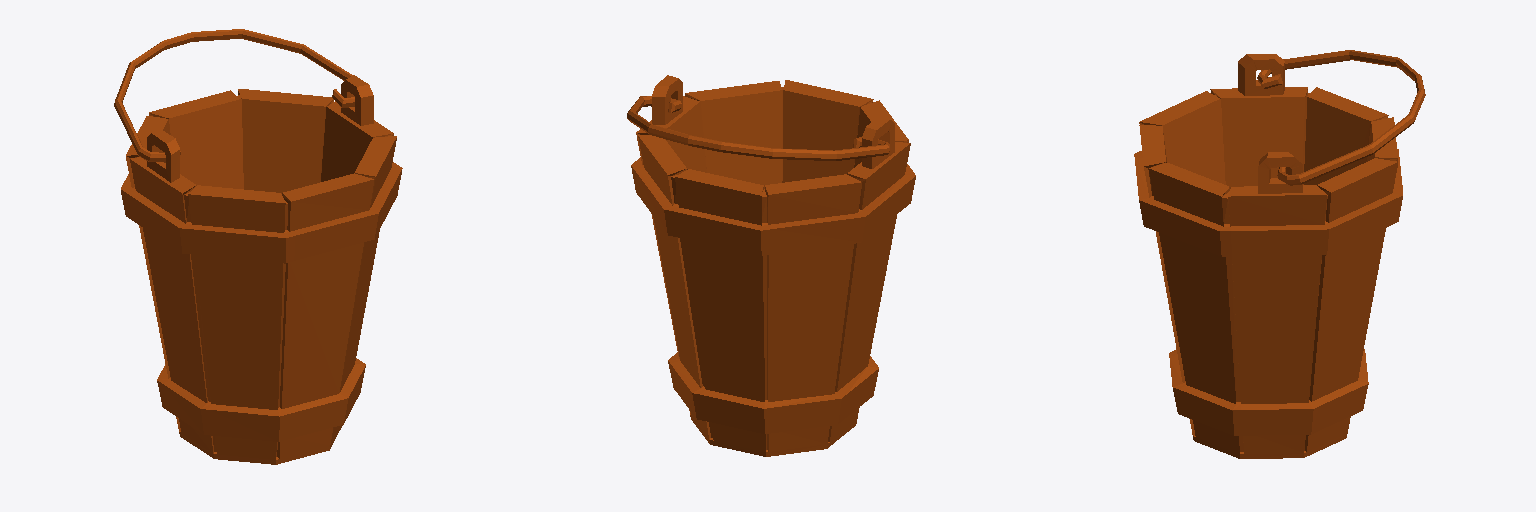
File: Bucket.obj
3 views of the same model, side by side, from view 1: azimuth 30°, elevation 25°; view 2: azimuth 150°, elevation 25°; view 3: azimuth 270°, elevation 25° (orthographic).
Visible parts, largest first — view 1: Bucket; view 2: Bucket; view 3: Bucket.
Part boxes in pixels (x1,y1,x2,y2): Bucket: (114,29,402,464); Bucket: (627,75,915,456); Bucket: (1134,50,1425,458).
Bounding box in the file's own units: 0.2561 × 0.3482 × 0.2701.